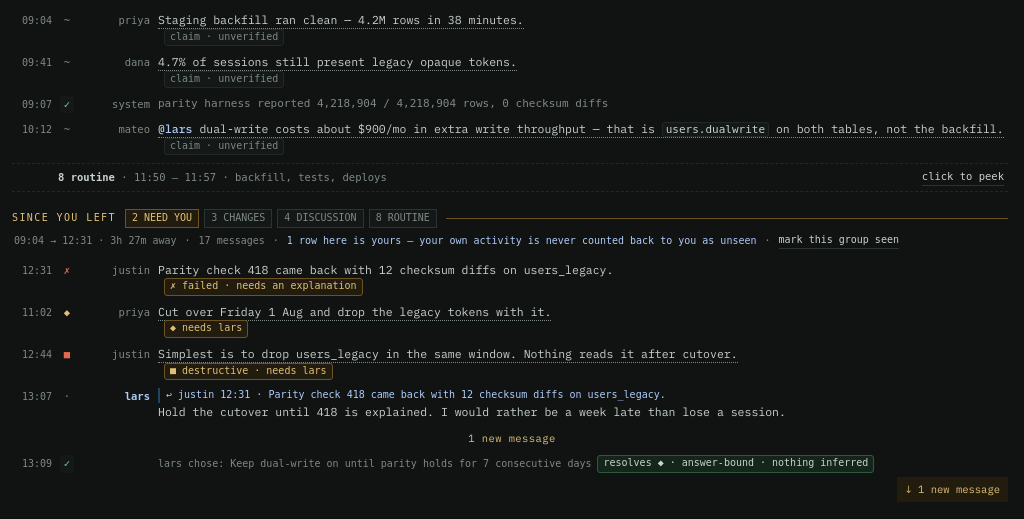
Test case: conversation follow mode › pauses following while scrolled up and jumps to the oldest unread message
(page scrolled)
Expected: the text "1 new message" is shown, [468,431,556,445]
Click the button "↓ 1 new message".
click(953, 490)  # box [898,477,1008,502]
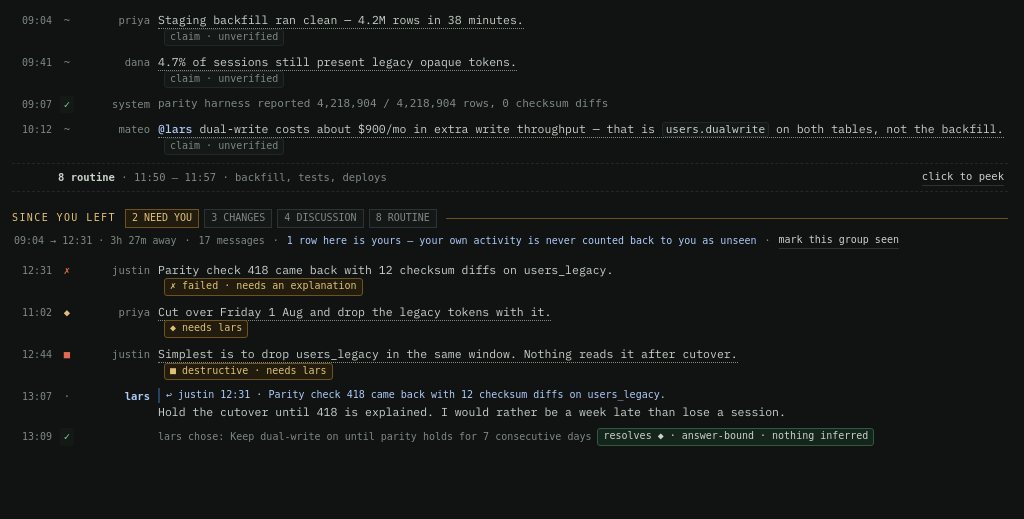
Now the button "↓ 1 new message" is gone
